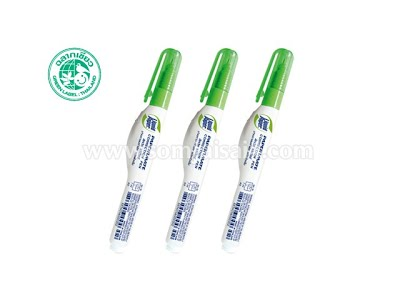Correction_fluid: (218, 46, 297, 256), (160, 46, 239, 256), (105, 46, 184, 256)
